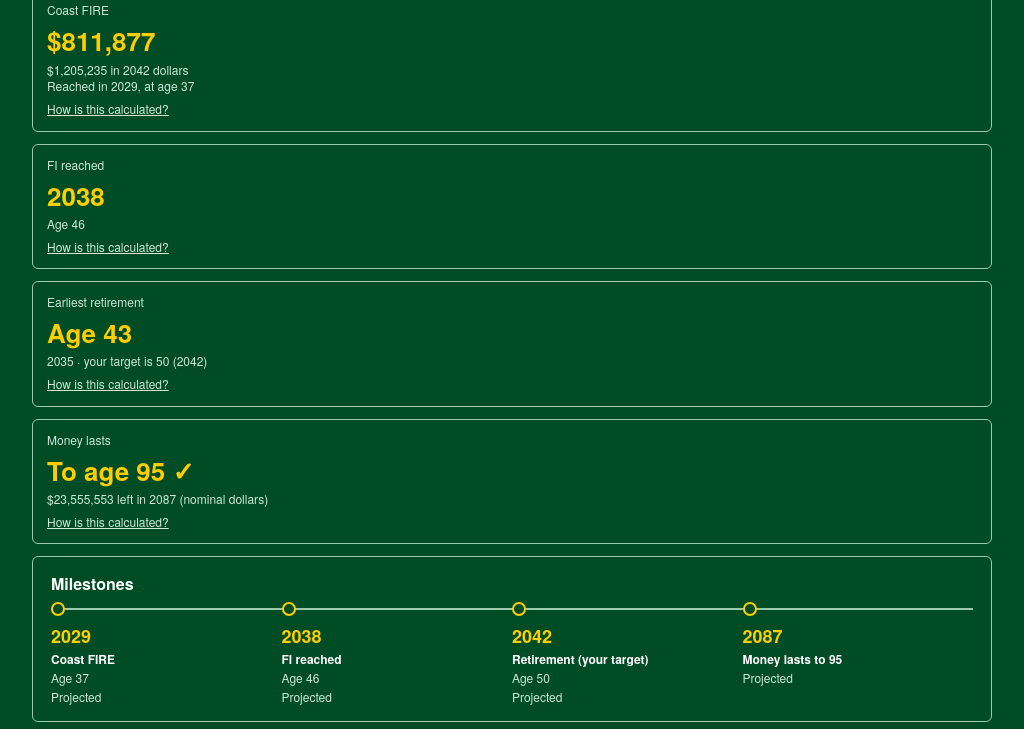
Test: ResultsScreen › with the projection › shows the earliest retirement age against the target, with its breakdown (example A)
(page scrolled)
expect the text "Earliest retirement" is shown: met, box [47,293,144,310]
expect the text "Age 43" is shown: met, box [47,314,132,351]
Click the button "How is this calculated?" below "2035 · your target is 50 (2042)".
click(108, 385)  # box [47,376,169,393]
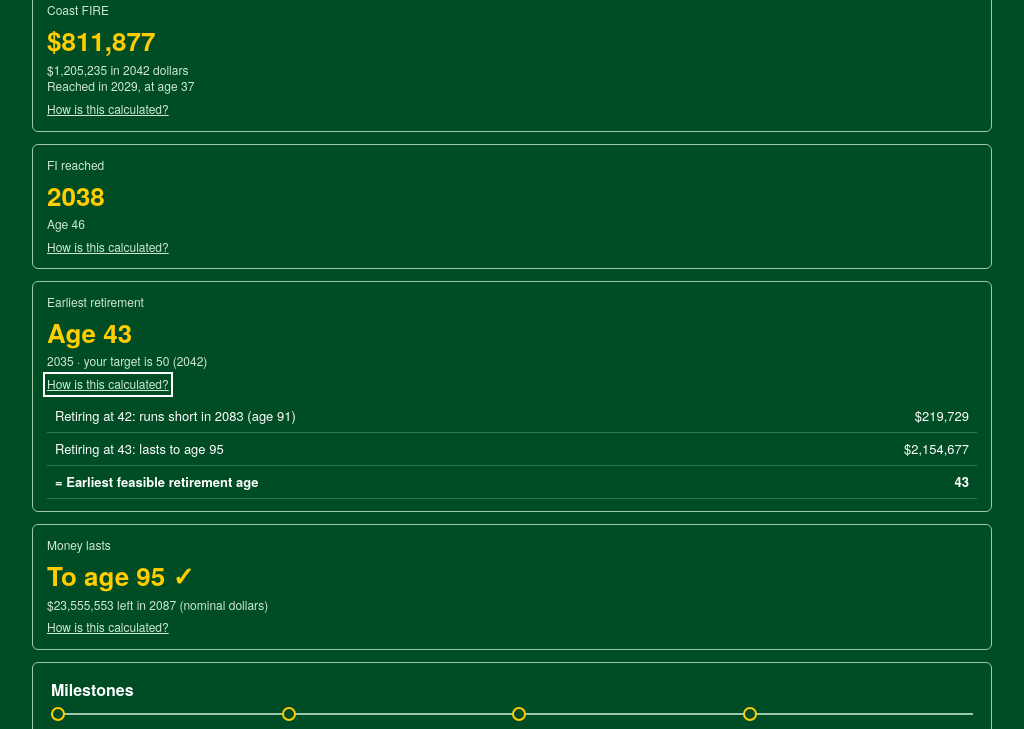
expect the row "= Earliest feasible retirement age 43" is shown: met, box [47,466,977,499]
